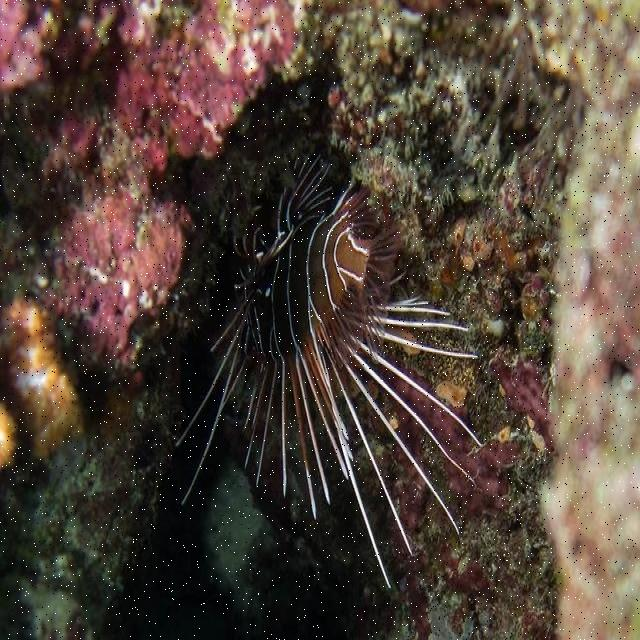fish: (178, 156, 483, 585)
